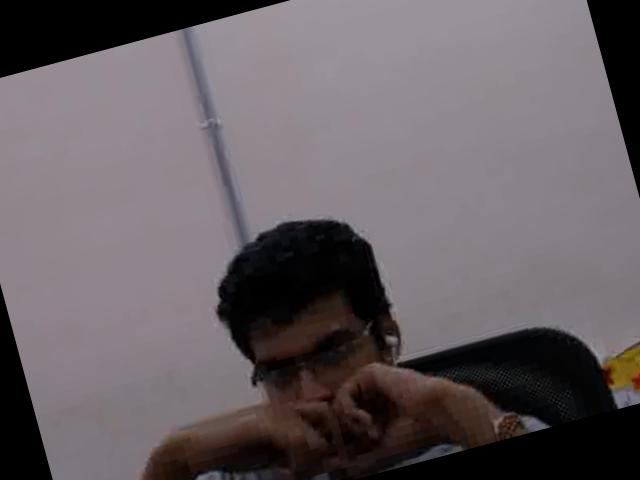bingung: (230, 278, 414, 478)
